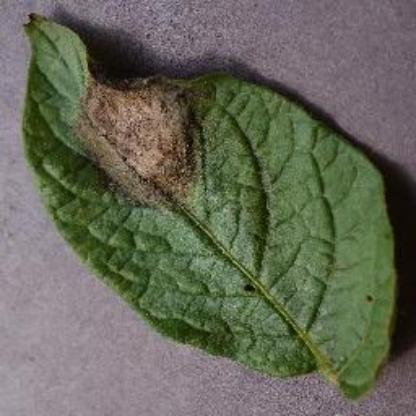Late-Blight: (10, 9, 402, 396)
